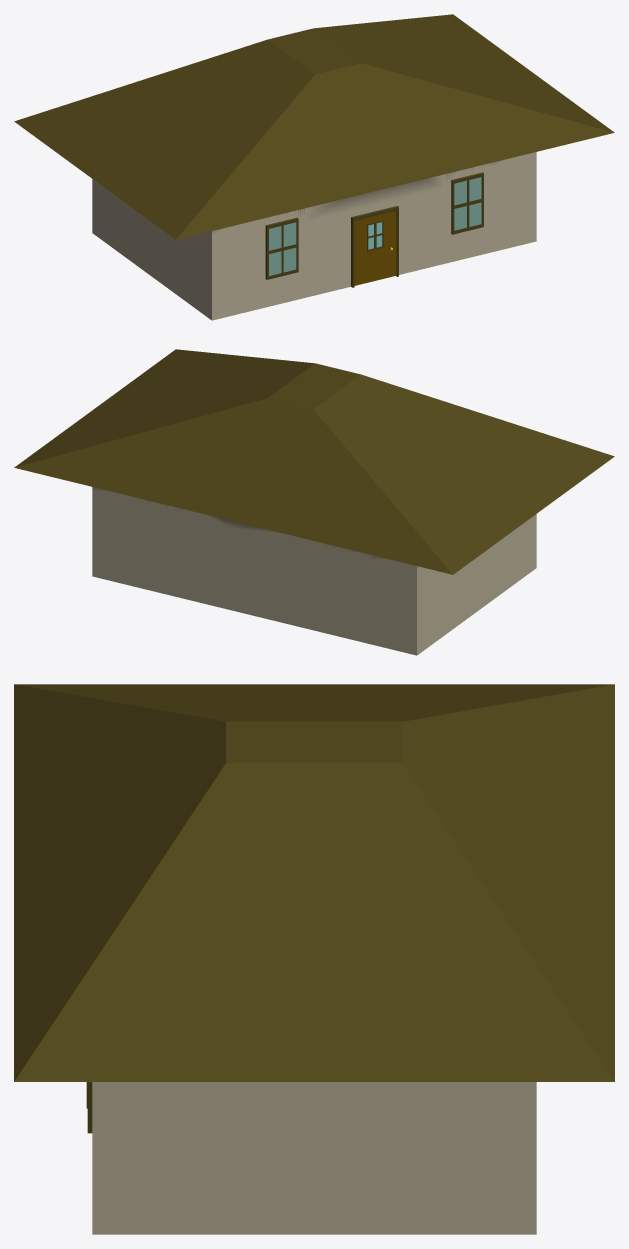
Rendered from StreetHouse.fbx.
3 views of the same model, one above another, from view 1: azimuth 30°, elevation 25°; view 2: azimuth 150°, elevation 25°; view 3: azimuth 270°, elevation 25° (orthographic). The views are drawn at different scales.
Visible parts, largest first — view 1: HouseBuilding, Door; view 2: HouseBuilding; view 3: HouseBuilding.
Part boxes in pixels (<box>): HouseBuilding: <box>14,14,614,320</box>; Door: <box>354,211,396,285</box>; HouseBuilding: <box>14,349,614,655</box>; HouseBuilding: <box>14,684,614,1234</box>.
Bounding box in the file's own units: 81.98 × 33.16 × 52.33.
